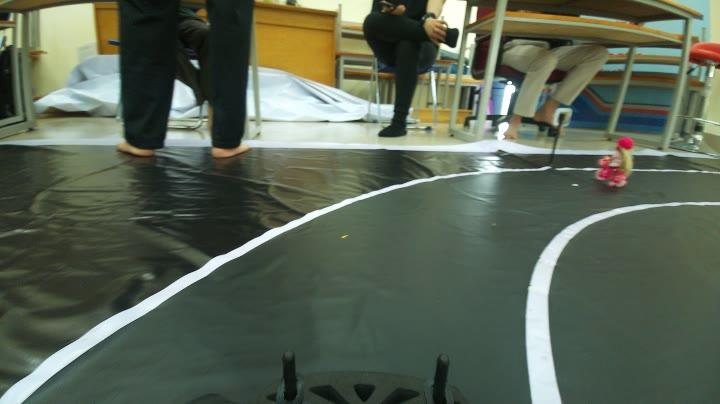pedestrian: (590, 123, 646, 186)
